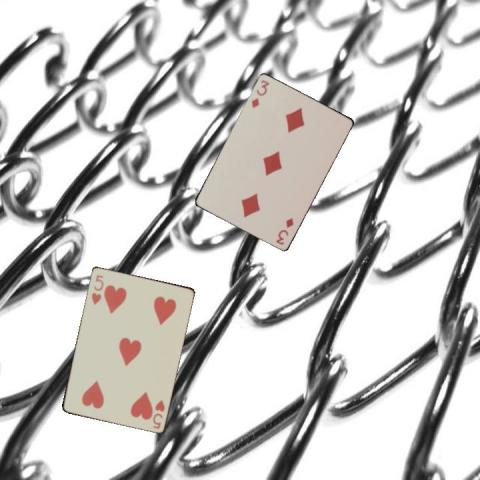3d: (248, 77, 270, 109), (272, 215, 294, 246)
5h: (88, 272, 105, 306), (149, 396, 166, 430)
